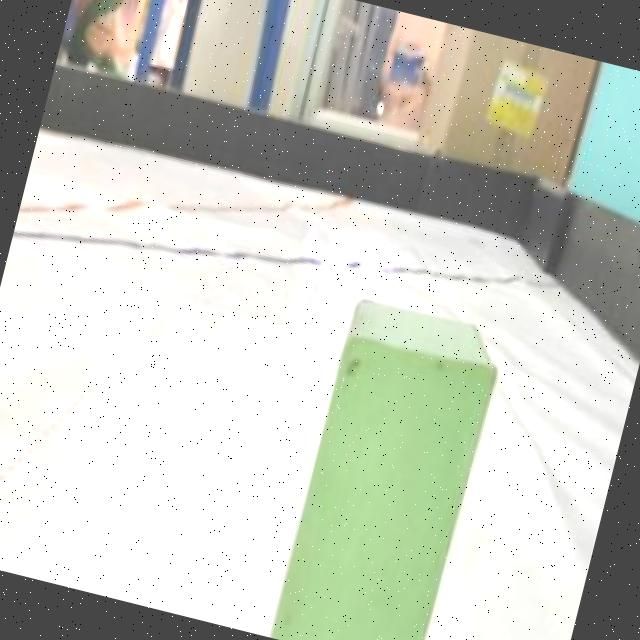greenbox: (265, 289, 512, 640)
